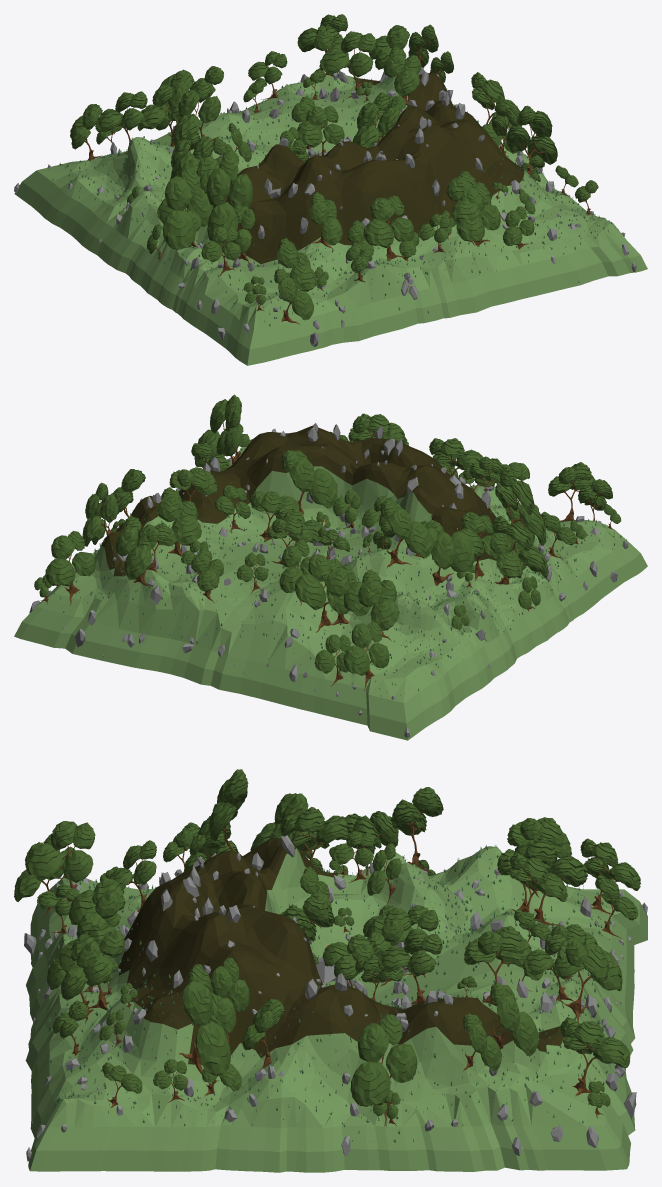
3 renders of one model, top to bottom at view 1: azimuth 30°, elevation 25°; view 2: azimuth 150°, elevation 25°; view 3: azimuth 270°, elevation 25°, orthographic. The views are drawn at different scales.
Parts seen in each view (by area): view 1: Terrain, Tree-combine (×34); view 2: Terrain, Tree-combine (×38); view 3: Terrain, Tree-combine (×43).
Boxes of the visible parts, x1,y1,x2,y2 form: Terrain: (14, 73, 647, 365); Tree-combine (×34): (70, 14, 557, 324); Terrain: (14, 425, 647, 740); Tree-combine (×38): (45, 394, 612, 690); Terrain: (25, 838, 647, 1172); Tree-combine (×43): (14, 769, 640, 1126).
Bounding box in the file's own units: 217 × 94.41 × 225.
